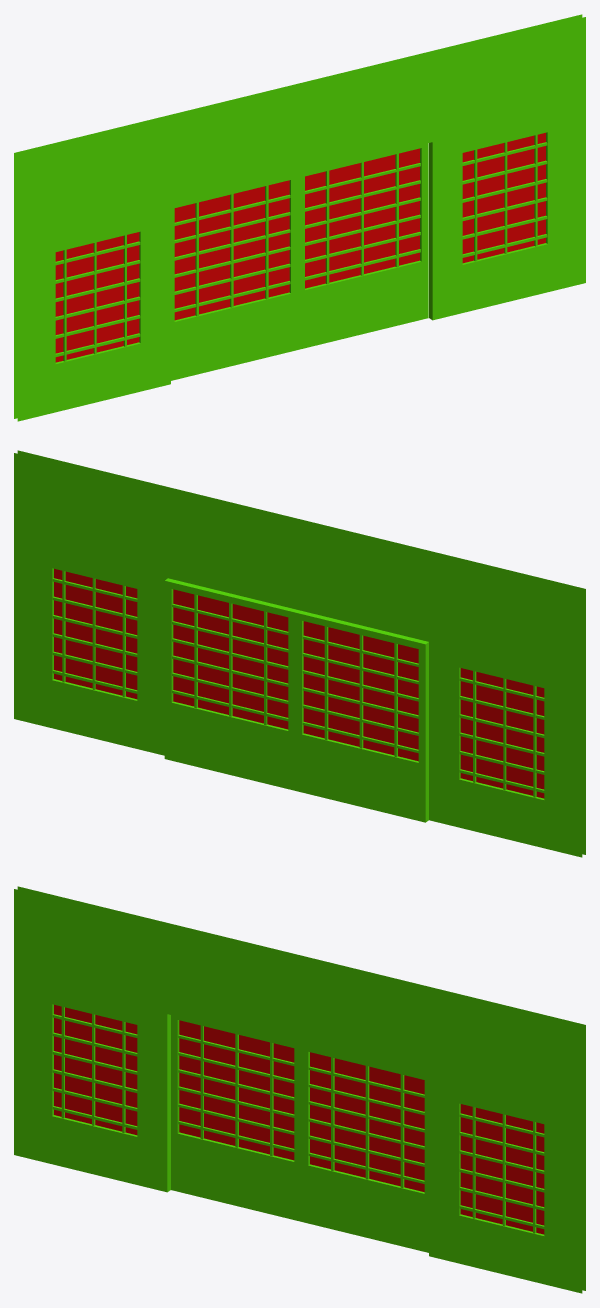
File: DoorFBX.fbx
3 renders of one model, top to bottom at view 1: azimuth 30°, elevation 25°; view 2: azimuth 150°, elevation 25°; view 3: azimuth 330°, elevation 25°, orthographic.
Visible parts, largest first — view 1: DoorFrame, DoorGridL_ScreenB, DoorR, DoorGridR_ScreenB, DoorL, WindowGridL_ScreenB, WindowGridR_ScreenB, DoorGridR_V03; view 2: DoorFrame, DoorL, DoorR, DoorGridL_ScreenF, DoorGridR_ScreenF, WindowGridL_ScreenF, WindowGridR_ScreenF, DoorGridL_V01, DoorGridL_V02; view 3: DoorFrame, DoorL, DoorGridL_ScreenB, DoorGridR_ScreenB, DoorR, WindowGridR_ScreenB, WindowGridL_ScreenB, DoorGridR_V02, DoorGridR_V01.
Boxes of the visible parts, box(x1,y1,x2,y2) form: DoorFrame: box(14, 14, 585, 421); DoorGridL_ScreenB: box(174, 180, 289, 320); DoorR: box(298, 143, 428, 349); DoorGridR_ScreenB: box(305, 148, 419, 288); DoorL: box(171, 175, 297, 380); WindowGridL_ScreenB: box(55, 232, 139, 362); WindowGridR_ScreenB: box(462, 132, 545, 263); DoorGridR_V03: box(325, 170, 329, 284); DoorFrame: box(14, 450, 585, 857); DoorL: box(295, 610, 428, 822); DoorR: box(164, 578, 297, 790); DoorGridL_ScreenF: box(303, 621, 418, 761); DoorGridR_ScreenF: box(173, 589, 288, 729); WindowGridL_ScreenF: box(460, 668, 544, 798); WindowGridR_ScreenF: box(54, 568, 137, 699); DoorGridL_V01: box(324, 626, 328, 739); DoorGridL_V02: box(359, 635, 363, 748); DoorFrame: box(14, 886, 585, 1293); DoorL: box(171, 1015, 301, 1221); DoorGridL_ScreenB: box(179, 1020, 294, 1160); DoorGridR_ScreenB: box(310, 1052, 424, 1192); DoorR: box(301, 1047, 428, 1252); WindowGridR_ScreenB: box(460, 1104, 544, 1234); WindowGridL_ScreenB: box(54, 1004, 137, 1135); DoorGridR_V02: box(365, 1066, 369, 1179); DoorGridR_V01: box(400, 1074, 404, 1187).
Size of the model in its own units: 28.7 by 12.84 by 0.5997.
